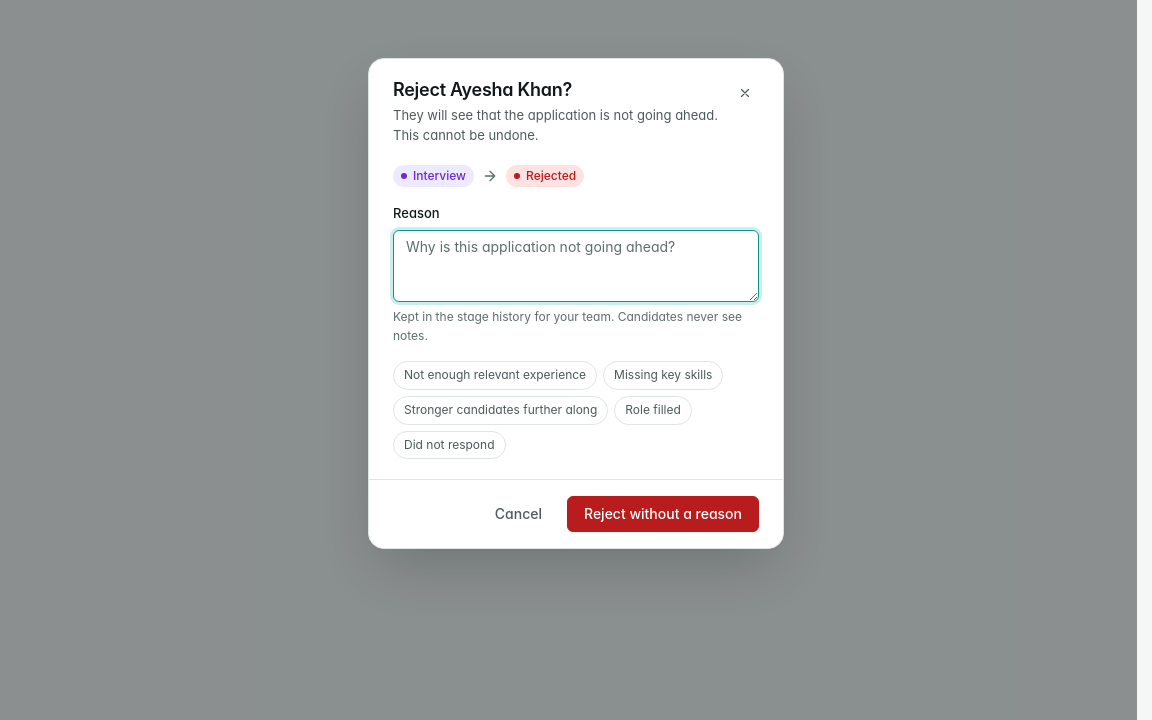
Test: StageChangeDialog › adds a reason chip to what is written and hands the caret back to the note
Type "Strong on frontend" into the text box labelled "Reason" at (576, 266), box [393,230,759,302]
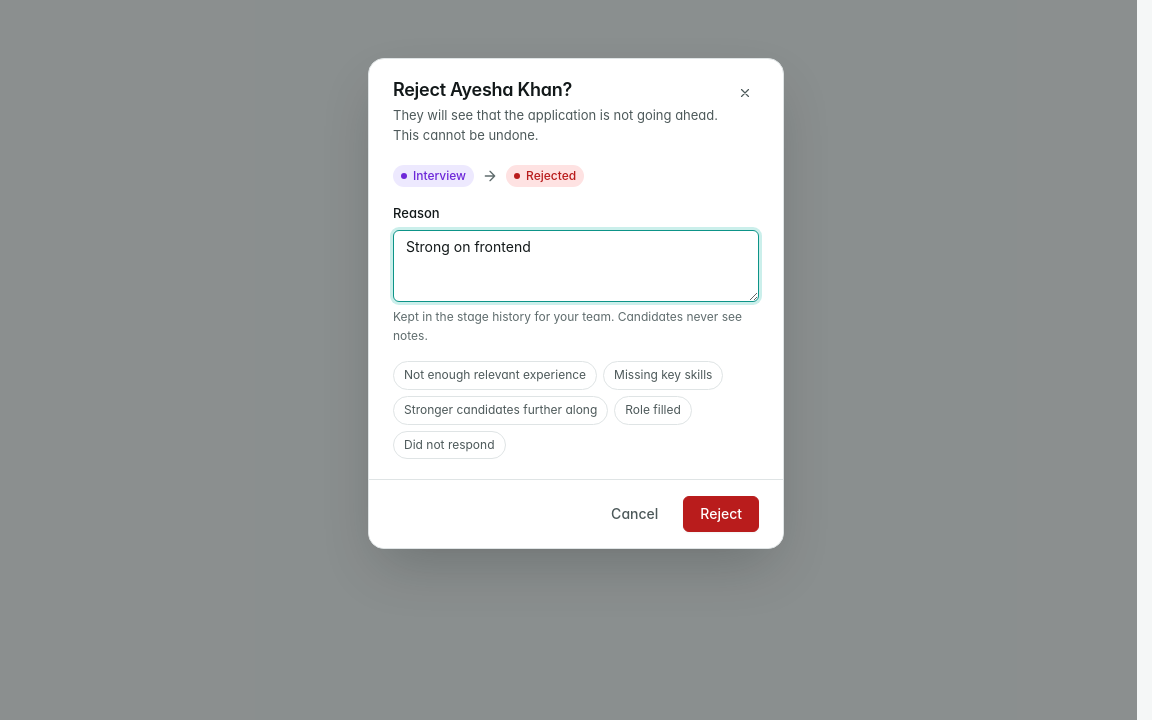
Click the button "Missing key skills" at (663, 376), box [603,362,723,390]
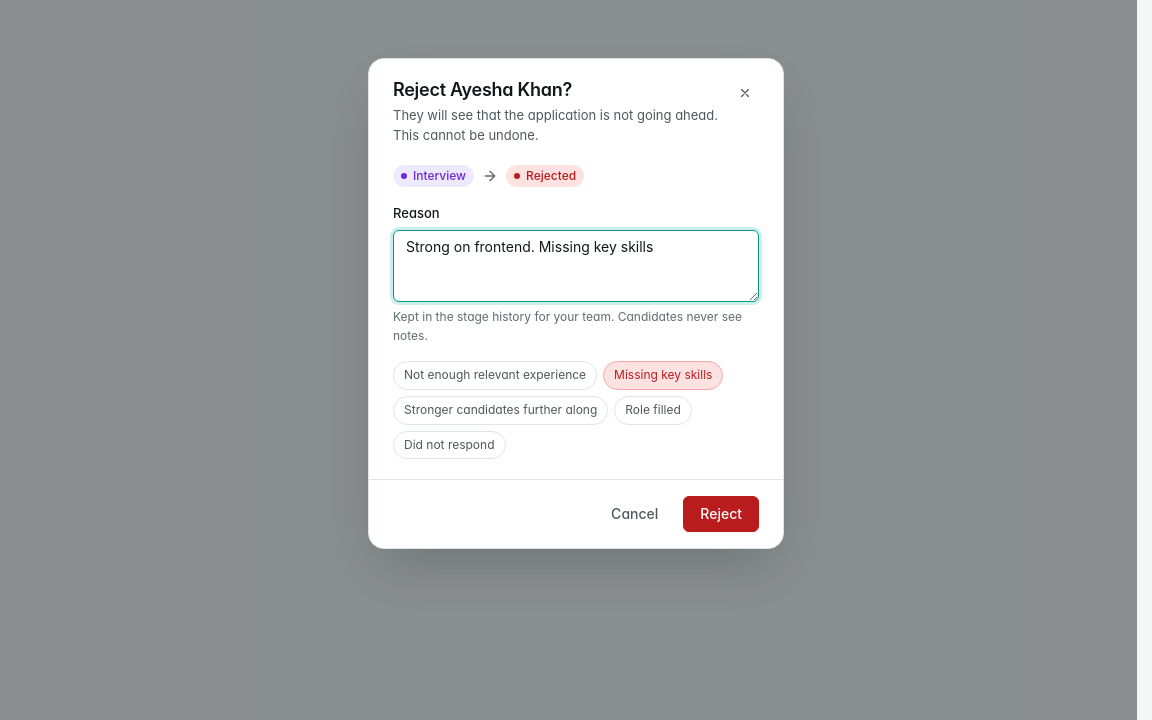
Expected: the text box labelled "Reason" holds "Strong on frontend. Missing key skills"
// Typing goes on where the chip left off, not into the chip.
Type " (Kubernetes)" into the text box labelled "Reason" at (576, 266), box [393,230,759,302]
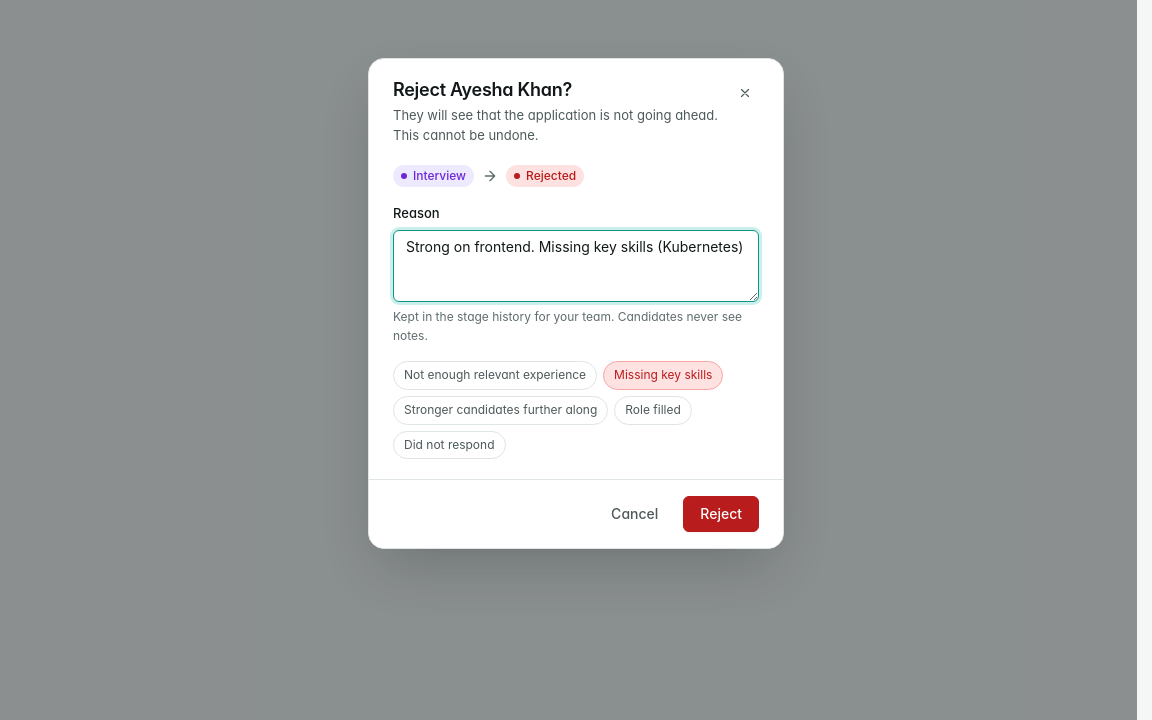
Expected: the text box labelled "Reason" holds "Strong on frontend. Missing key skills (Kubernetes)", [393,230,759,302]
// A second click takes the reason back out and keeps the rest.
Click the button "Missing key skills" at (663, 376), box [603,362,723,390]
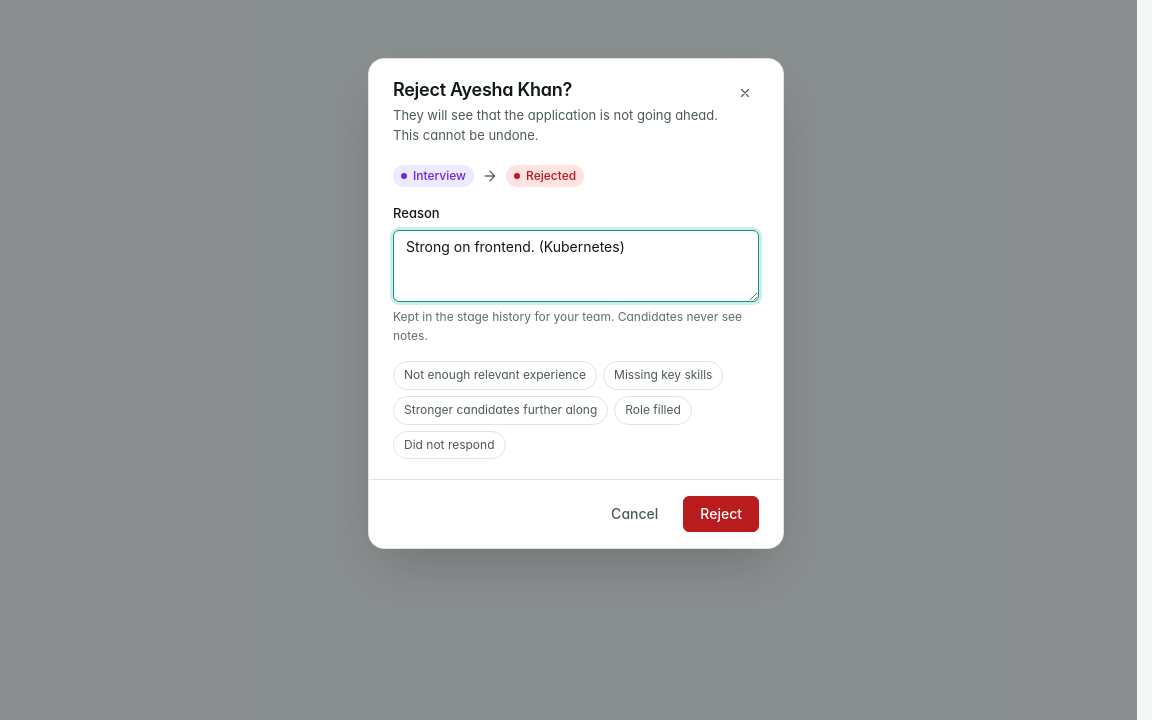
Expected: the text box labelled "Reason" holds "Strong on frontend. (Kubernetes)", [393,230,759,302]
